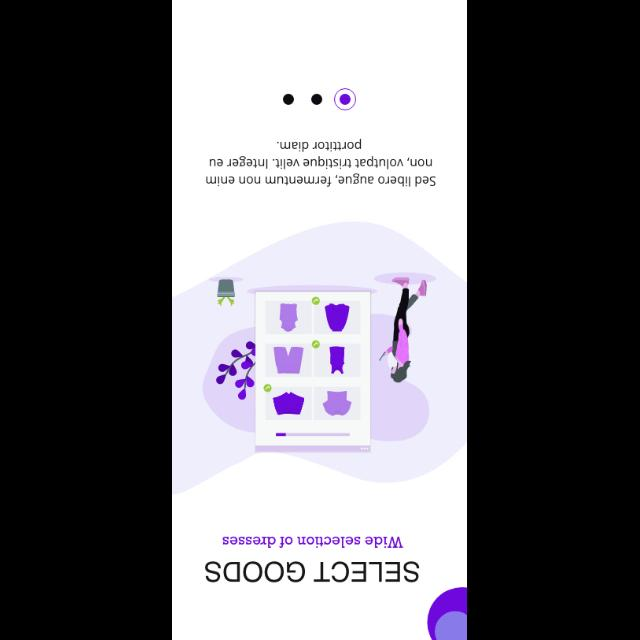image: (202, 272, 436, 453)
pageindicator: (283, 88, 357, 110)
text: (206, 138, 436, 186), (204, 560, 420, 582), (222, 535, 404, 547)
